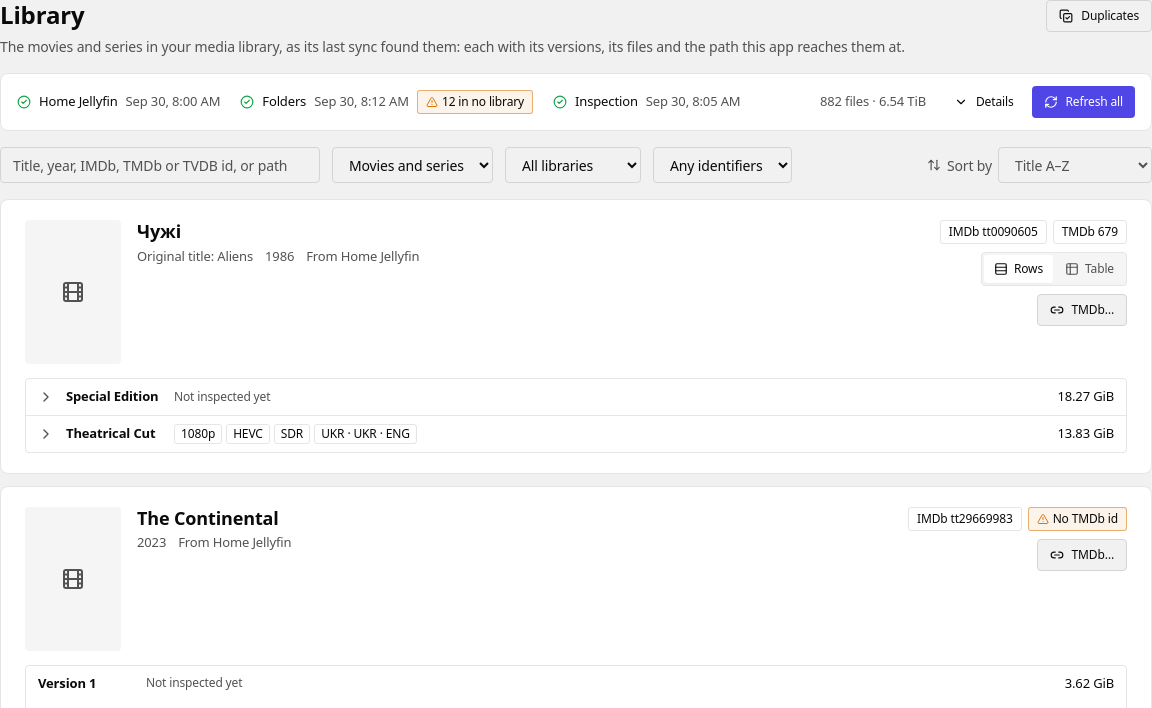
Test: LibraryPage sort › keeps the order picked with the filters, and Clear filters leaves it
The image size is (1152, 708).
Expected: the heading "Чужі" is shown, [137,219,181,243]
Select "Recently added" in the dropdown labelled "Sort by" at (1075, 165), box [998,147,1151,183]
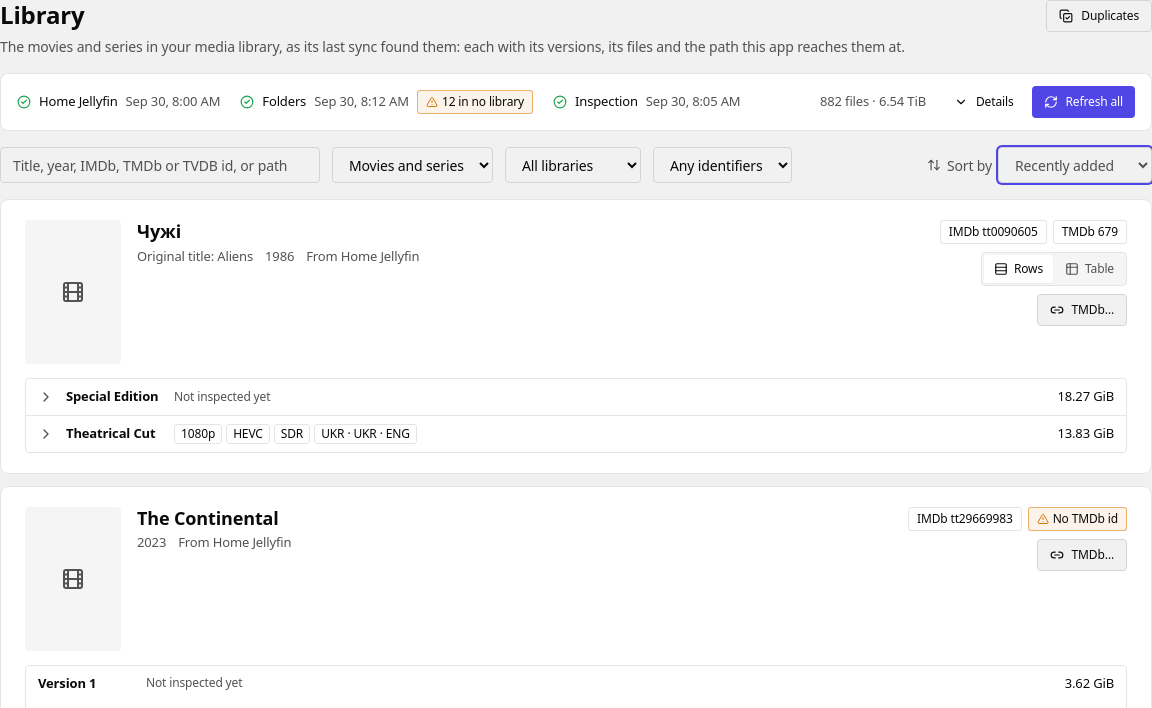
Select "Missing an id" in the dropdown named "Identifiers" at (722, 165), box [653,147,792,183]
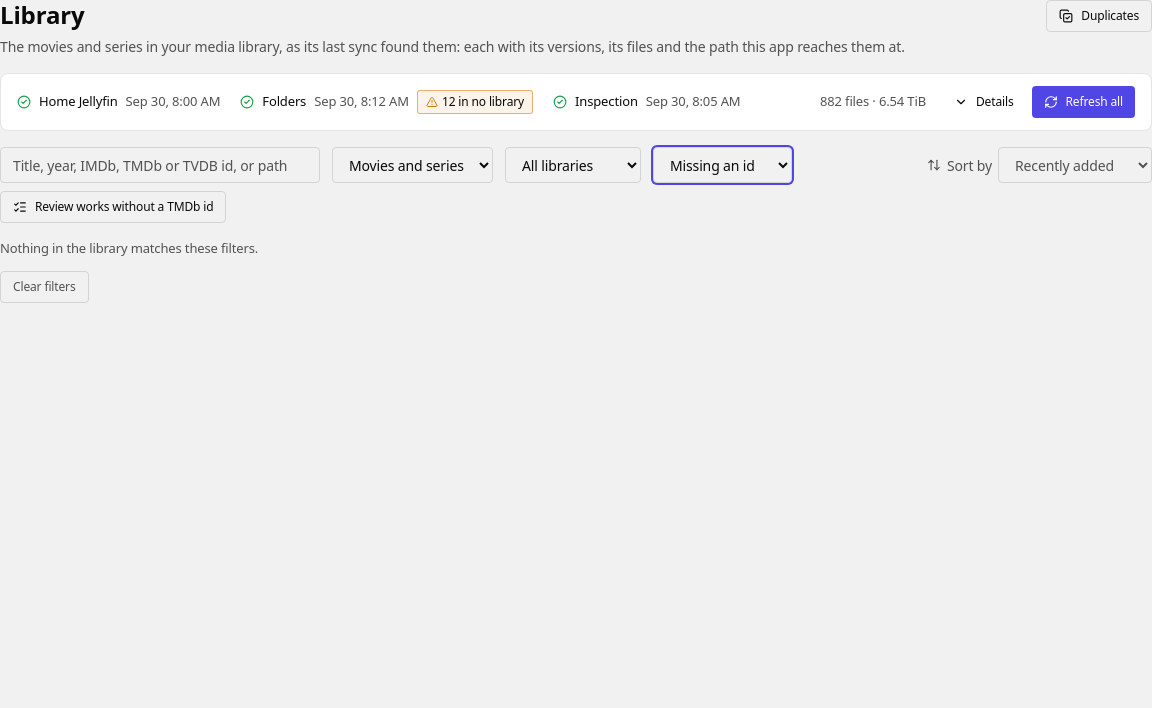
Now the text "Nothing in the library matches these filters." is shown, box [0,239,258,258]
Click the button "Clear filters".
click(44, 286)  # box [0,270,88,302]
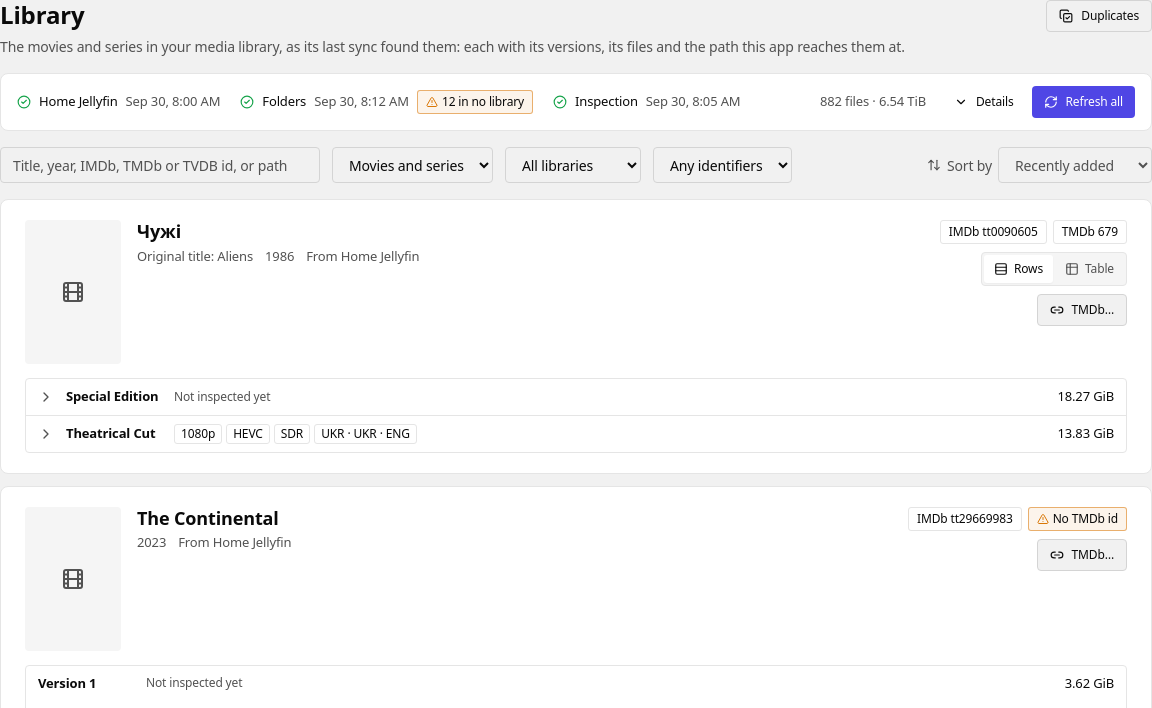
Now the heading "Чужі" is shown, box [137,219,181,243]
